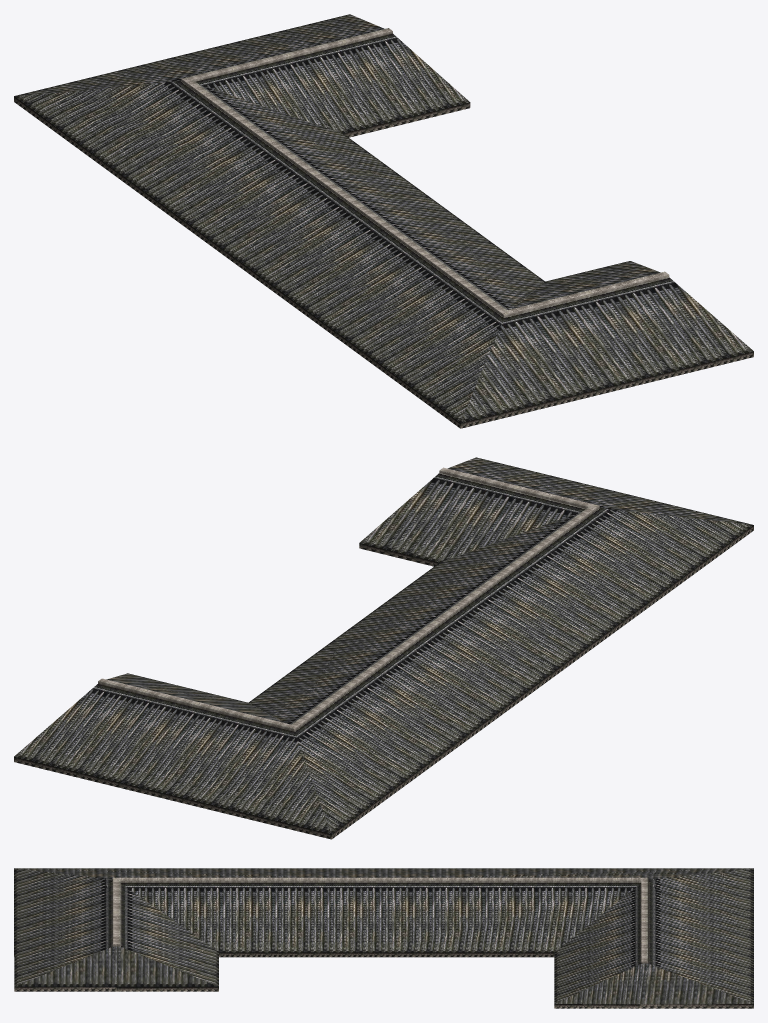
The model's file is Roomtop2.obj.
The picture shows the model from 3 angles, top to bottom: view 1: azimuth 30°, elevation 25°; view 2: azimuth 150°, elevation 25°; view 3: azimuth 270°, elevation 25°; orthographic projection. The views are drawn at different scales.
Parts seen in each view (by area): view 1: Roomtop2; view 2: Roomtop2; view 3: Roomtop2.
Part boxes in pixels (x1,y1,x2,y2): Roomtop2: (14,14,753,428); Roomtop2: (14,457,753,839); Roomtop2: (14,868,753,1008).
Size of the model in its own units: 549 by 69.88 by 1264.
